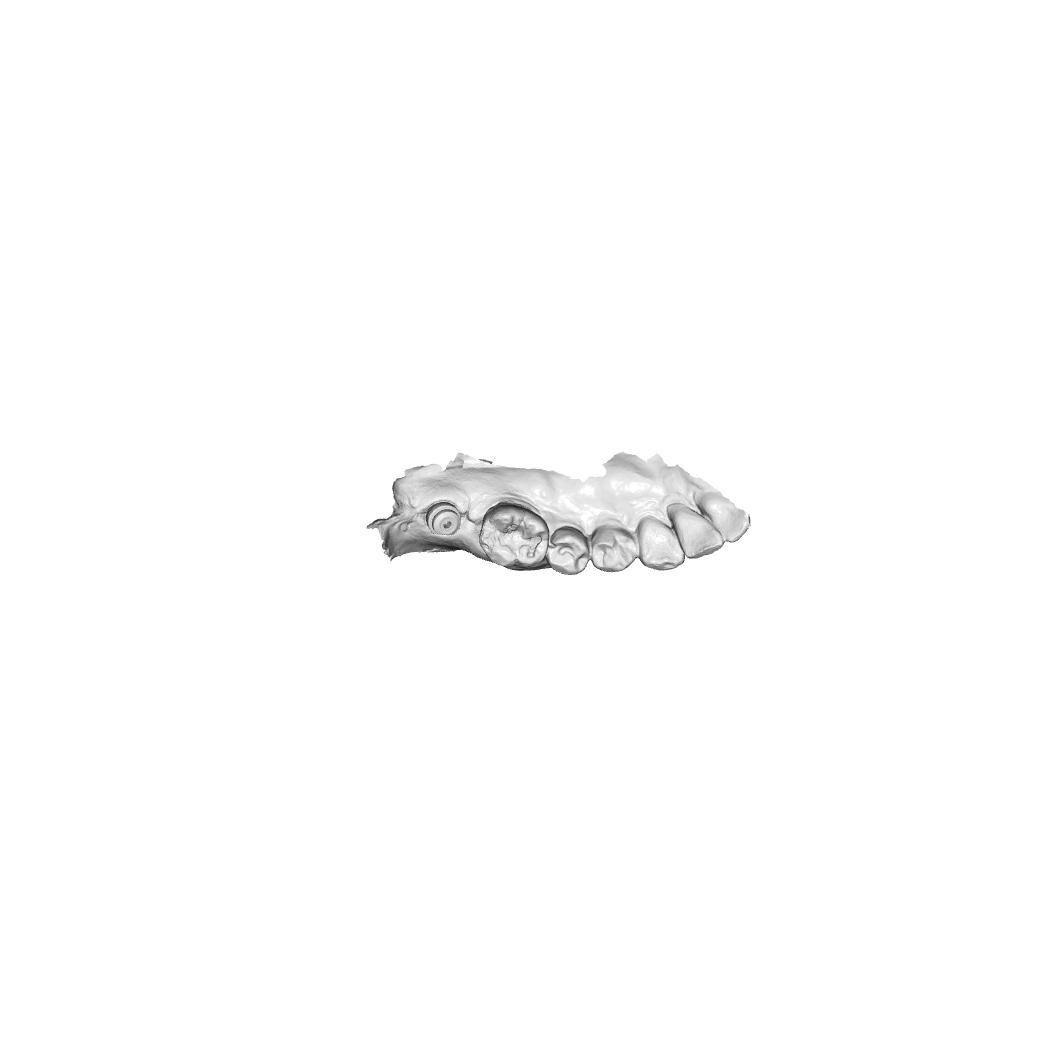canine: (637, 515, 686, 571)
implant: (425, 500, 462, 537)
incisor: (668, 503, 725, 561), (699, 495, 752, 545)
molar: (478, 501, 550, 571)
premolar: (590, 524, 638, 574), (544, 525, 591, 576)
